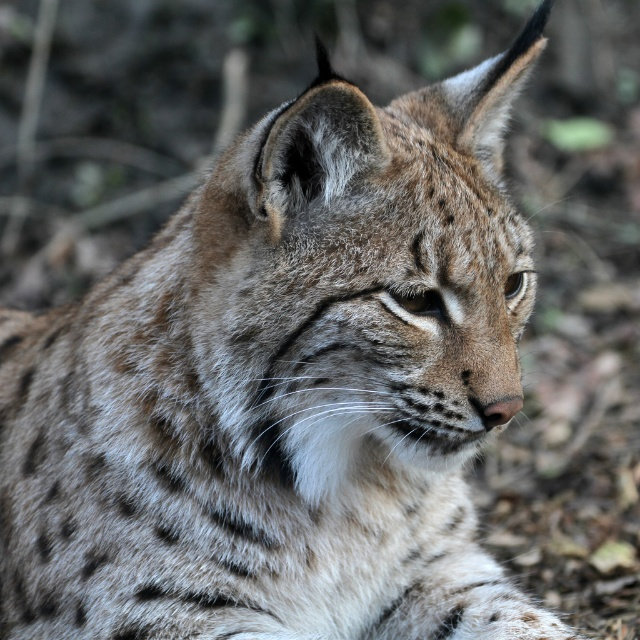Lynx: (0, 0, 598, 640)
